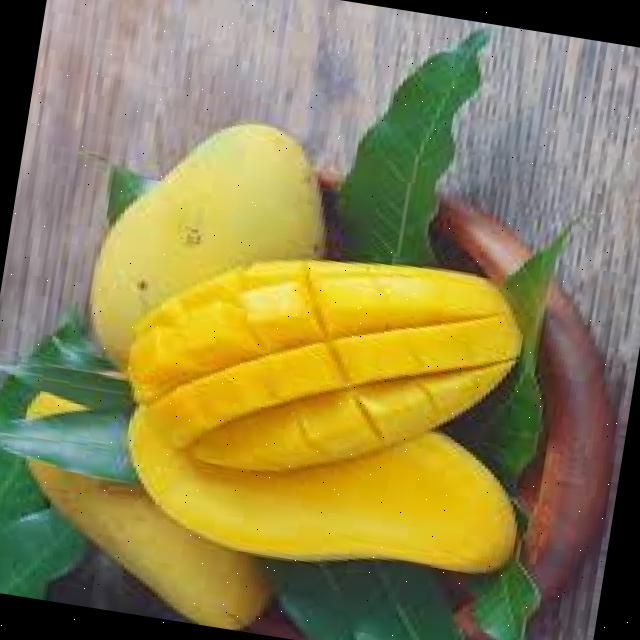mango: (128, 263, 528, 474)
